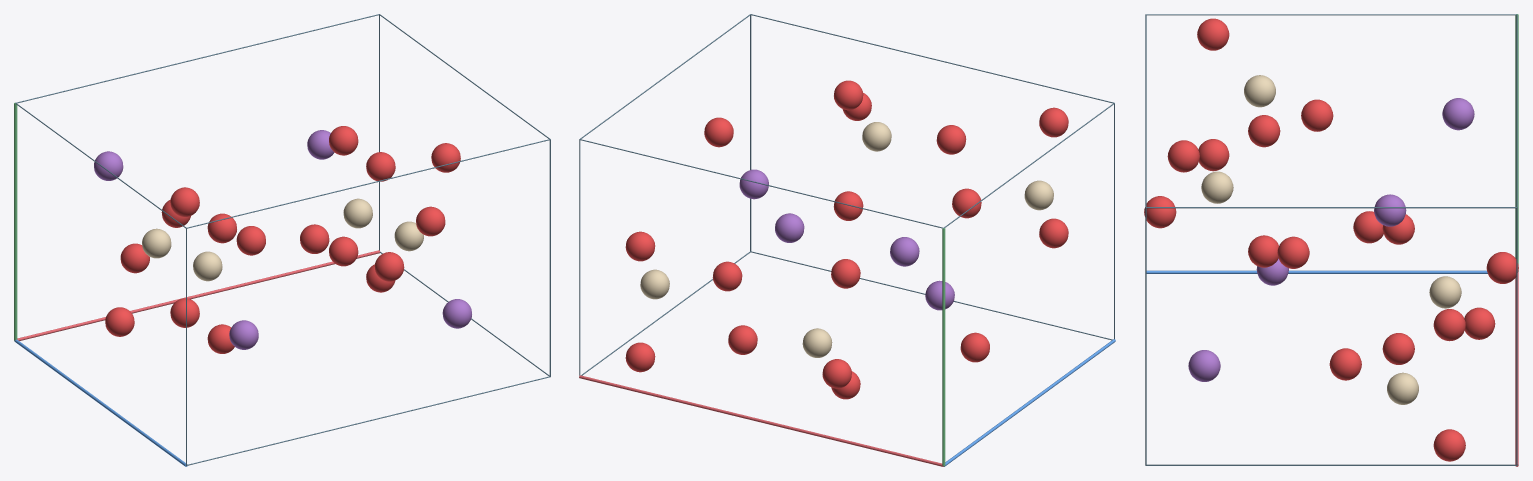
File: cod-2310631.glb
The picture shows the model from 3 angles, left to right: view 1: azimuth 30°, elevation 25°; view 2: azimuth 150°, elevation 25°; view 3: azimuth 270°, elevation 25°; orthographic projection. The views are drawn at different scales.
Visible parts, largest first — view 1: Ô mạng và các trục a, b, c, O3 · O · 1 (×7), O2 · O · 1 (×4), Mn1 · Mn · 1 (×4), K1 · K · 1 (×4), O1 · O · 1 (×3); view 2: Ô mạng và các trục a, b, c, O3 · O · 1 (×7), Mn1 · Mn · 1 (×4), O2 · O · 1 (×4), K1 · K · 1 (×4), O1 · O · 1 (×3); view 3: O3 · O · 1 (×8), Ô mạng và các trục a, b, c, Mn1 · Mn · 1 (×4), O1 · O · 1 (×4), O2 · O · 1 (×4), K1 · K · 1 (×4).
Part boxes in pixels (x1,y1,x2,y2): Ô mạng và các trục a, b, c: [14, 14, 550, 466]; O3 · O · 1 (×7): [170, 126, 395, 353]; O2 · O · 1 (×4): [105, 143, 460, 336]; Mn1 · Mn · 1 (×4): [142, 198, 423, 281]; K1 · K · 1 (×4): [94, 130, 471, 349]; O1 · O · 1 (×3): [120, 206, 445, 281]; Ô mạng và các trục a, b, c: [579, 14, 1115, 466]; O3 · O · 1 (×7): [625, 80, 1068, 372]; Mn1 · Mn · 1 (×4): [640, 122, 1053, 357]; O2 · O · 1 (×4): [704, 117, 989, 362]; K1 · K · 1 (×4): [739, 169, 954, 310]; O1 · O · 1 (×3): [712, 188, 981, 388]; O3 · O · 1 (×8): [1197, 18, 1465, 461]; Ô mạng và các trục a, b, c: [1145, 14, 1518, 466]; Mn1 · Mn · 1 (×4): [1201, 75, 1461, 404]; O1 · O · 1 (×4): [1144, 99, 1518, 380]; O2 · O · 1 (×4): [1167, 140, 1495, 339]; K1 · K · 1 (×4): [1188, 98, 1474, 381].
Bounding box in the file's own units: 9.1 × 6.09 × 7.43.
